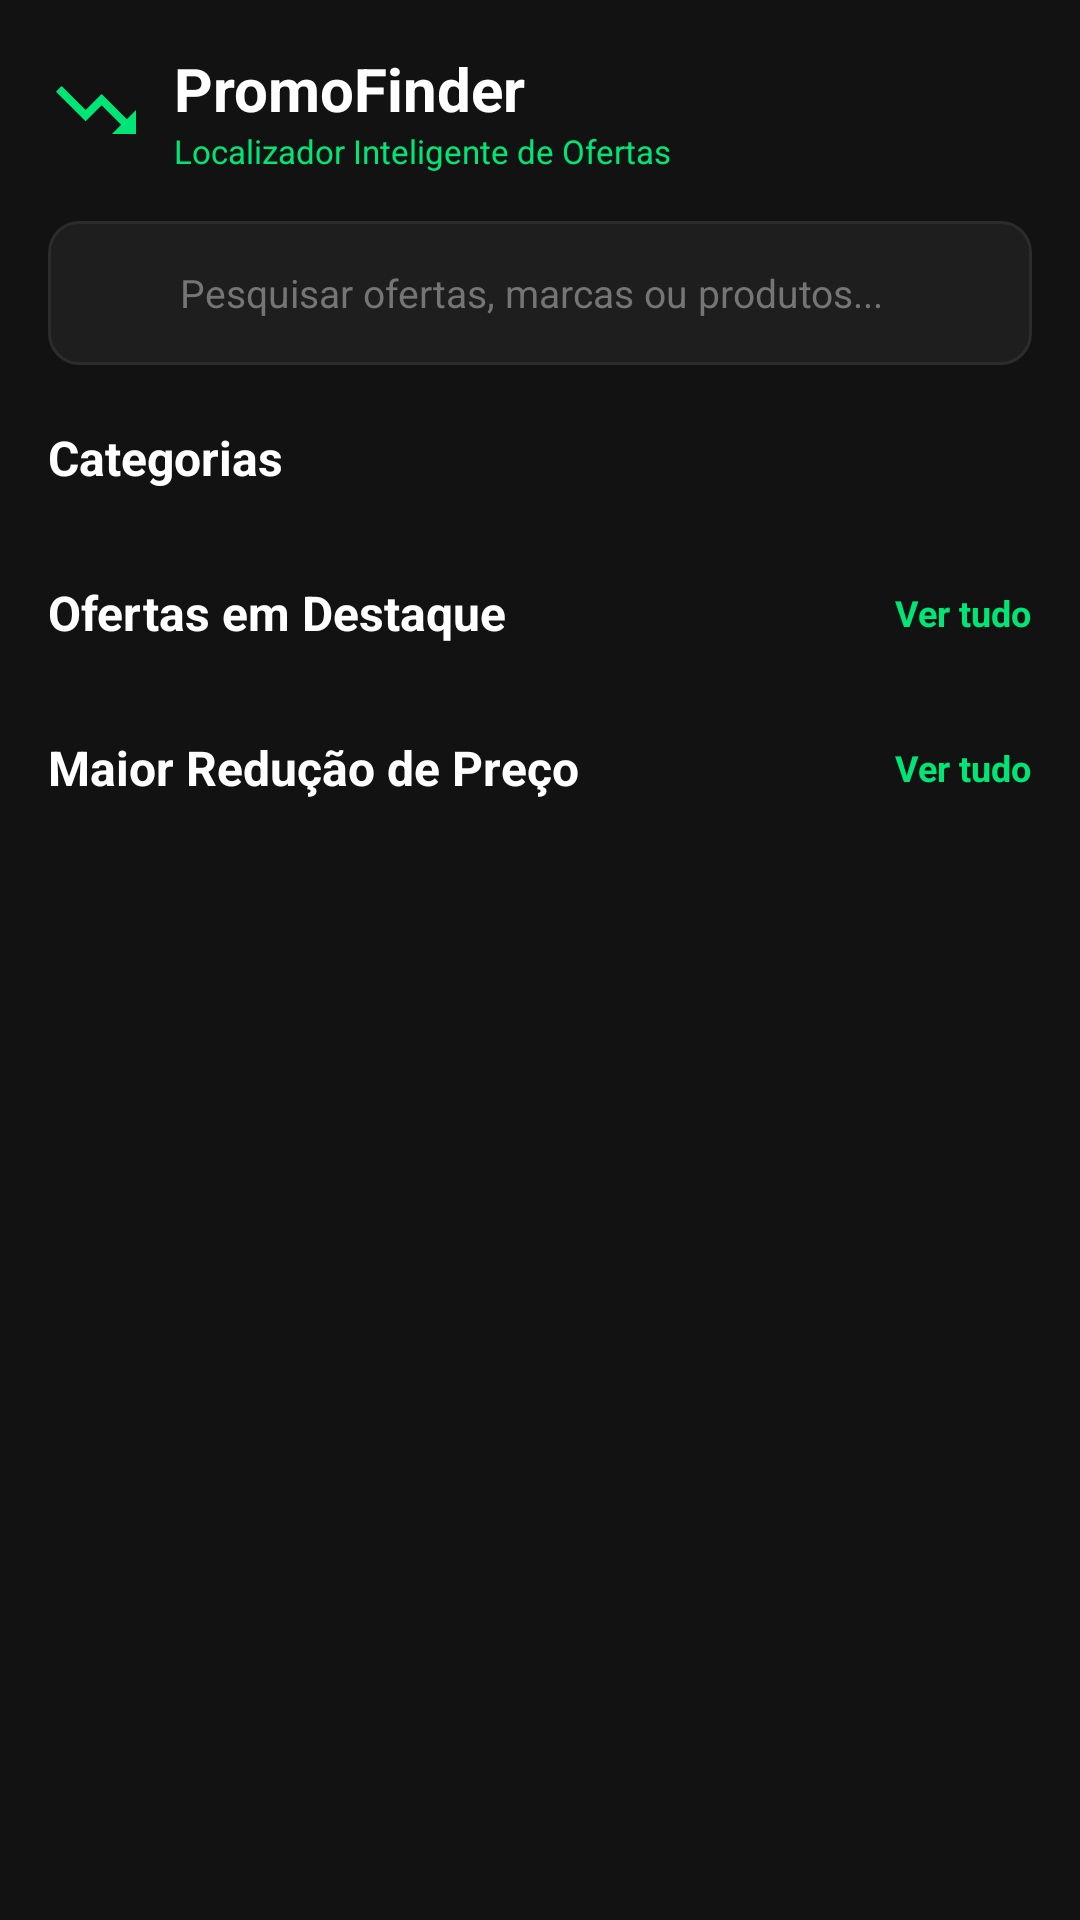

Icons on this 1080px×1920px Android screen, each with its box as bbox=[x1, y1, x2, y2]:
trending down: bbox=[56, 86, 136, 134]
